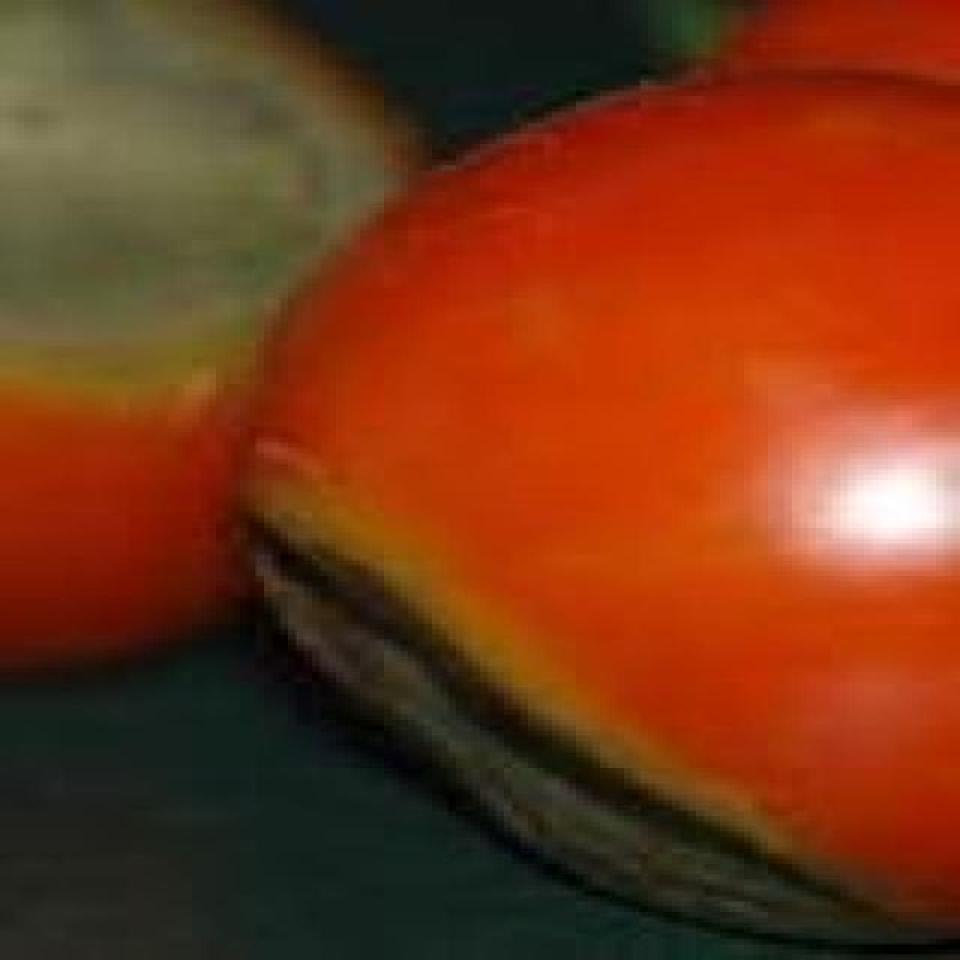Blossom_end_rot: (246, 435, 960, 960)
